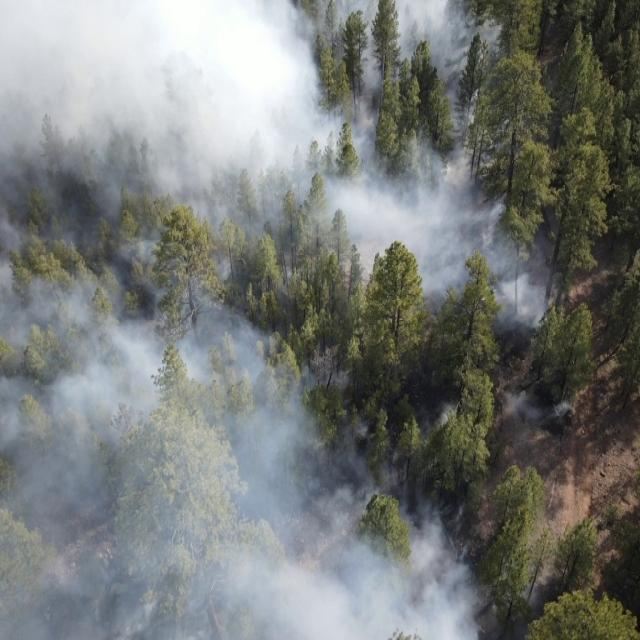smoke: (0, 495, 480, 640), (0, 0, 317, 209), (0, 208, 317, 362), (0, 362, 348, 494), (317, 108, 518, 244), (316, 0, 500, 108), (486, 245, 554, 331), (348, 412, 402, 494), (500, 387, 576, 433), (418, 242, 474, 304), (320, 244, 388, 277), (435, 402, 459, 426)
